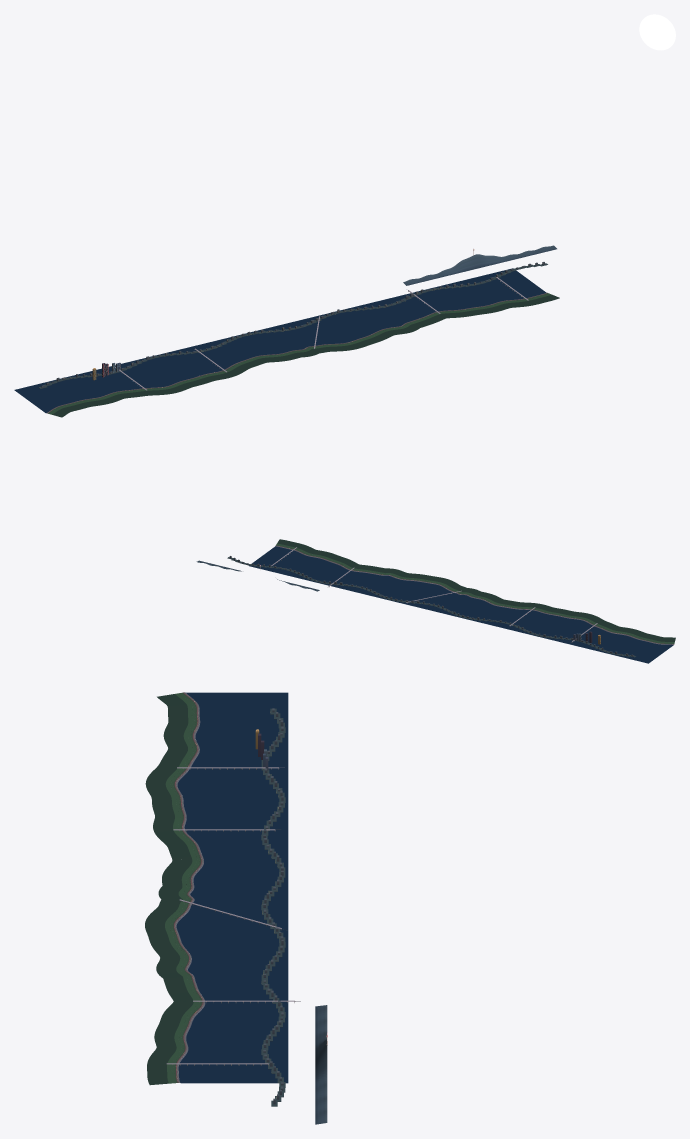
The model's file is hanriver.glb.
The picture shows the model from 3 angles, top to bottom: view 1: azimuth 30°, elevation 25°; view 2: azimuth 150°, elevation 25°; view 3: azimuth 270°, elevation 25°; orthographic projection. The views are drawn at different scales.
Visible parts, largest first — view 1: HanWater, YeouidoCity, Sun, Land_003, Land_005; view 2: HanWater, YeouidoCity, Land_005, Land_003, Land_008, Land_007, Land_002, Land_001, Land_006, Land_004, Land_000; view 3: HanWater, YeouidoCity, Land_005, Land_008, Land_003, Land_001, Land_007, Land_002, Land_006, Land_004, Land_000.
Part boxes in pixels (x1,y1,x2,y2): HanWater: (14,268,546,412); YeouidoCity: (38,245,556,388); Sun: (639,14,675,50); Land_003: (194,348,264,380); Land_005: (310,316,377,353); HanWater: (249,546,673,663); YeouidoCity: (196,556,635,657); Land_005: (406,575,467,602); Land_003: (499,600,553,626); Land_008: (270,544,341,567); Land_007: (328,557,379,586); Land_002: (545,607,601,623); Land_001: (571,619,637,642); Land_006: (374,567,424,581); Land_004: (459,588,504,606); Land_000: (629,630,675,644); HanWater: (176,692,288,1083); YeouidoCity: (255,708,327,1124); Land_005: (145,898,286,942); Land_008: (147,1021,274,1066); Land_003: (153,817,280,859); Land_001: (154,731,284,776); Land_007: (160,982,300,1024); Land_002: (145,770,186,817); Land_006: (150,941,195,983); Land_004: (158,858,203,900); Land_000: (157,692,200,734).
Bounding box in the file's own units: 12794 × 2485 × 3805.
